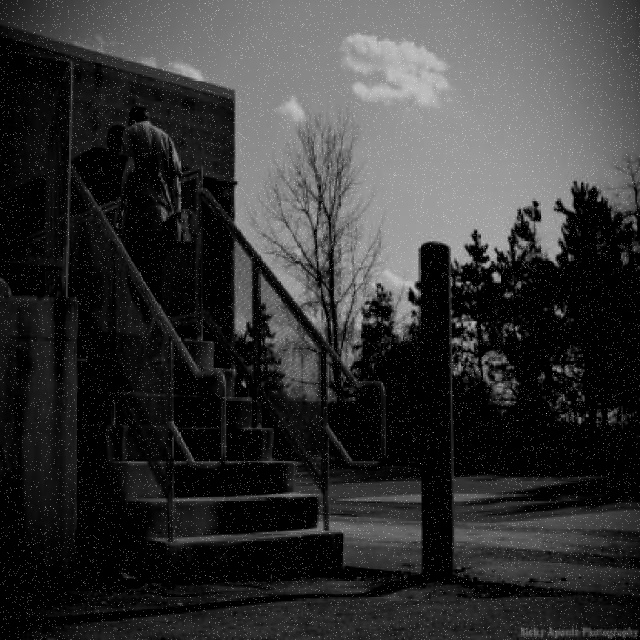stair: (77, 332, 343, 582)
